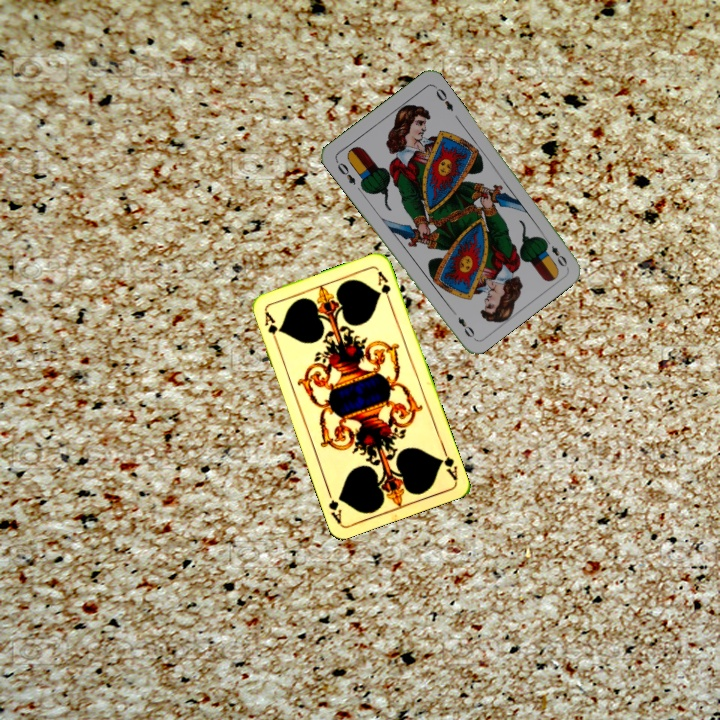EO: (540, 234, 570, 269), (332, 156, 358, 187)
GA: (435, 443, 460, 483), (260, 307, 282, 346)
